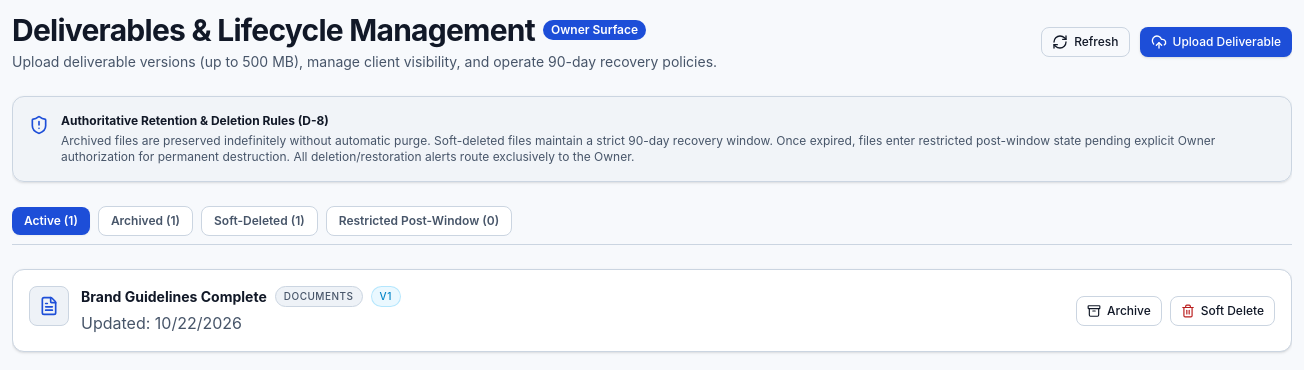
Test: OwnerFilesPage (Deliverables Lifecycle Surface) › switches to Soft-Deleted tab and displays 90-day recovery countdown and Restore button
The width and height of the screenshot is (1304, 370).
Click the button "Soft-Deleted (1)": (259, 221) [201, 206, 318, 236]
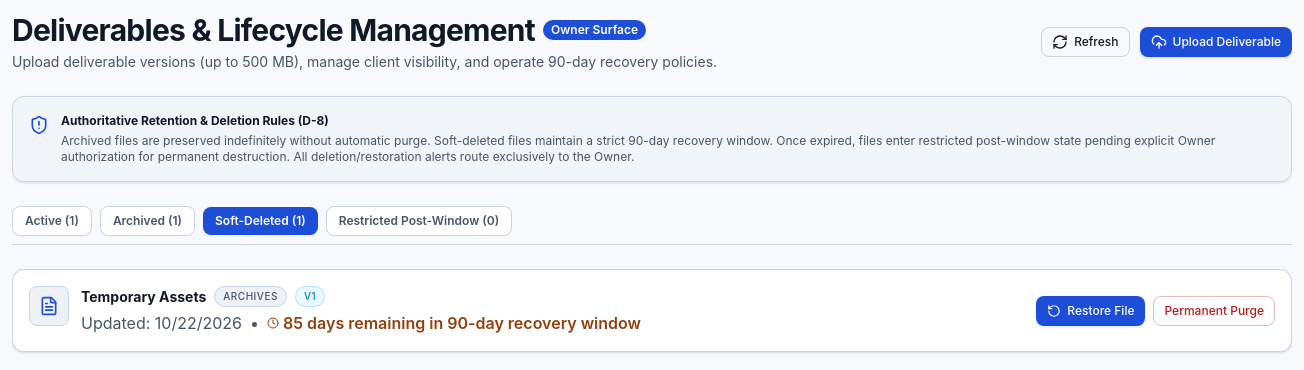
Check: the heading "Temporary Assets" is shown, box [81, 286, 206, 306]
Check: the text "85 days remaining in 90-day recovery window" is shown, box [267, 311, 641, 335]
Check: the text "Restore File" is shown, box [1067, 302, 1134, 318]
